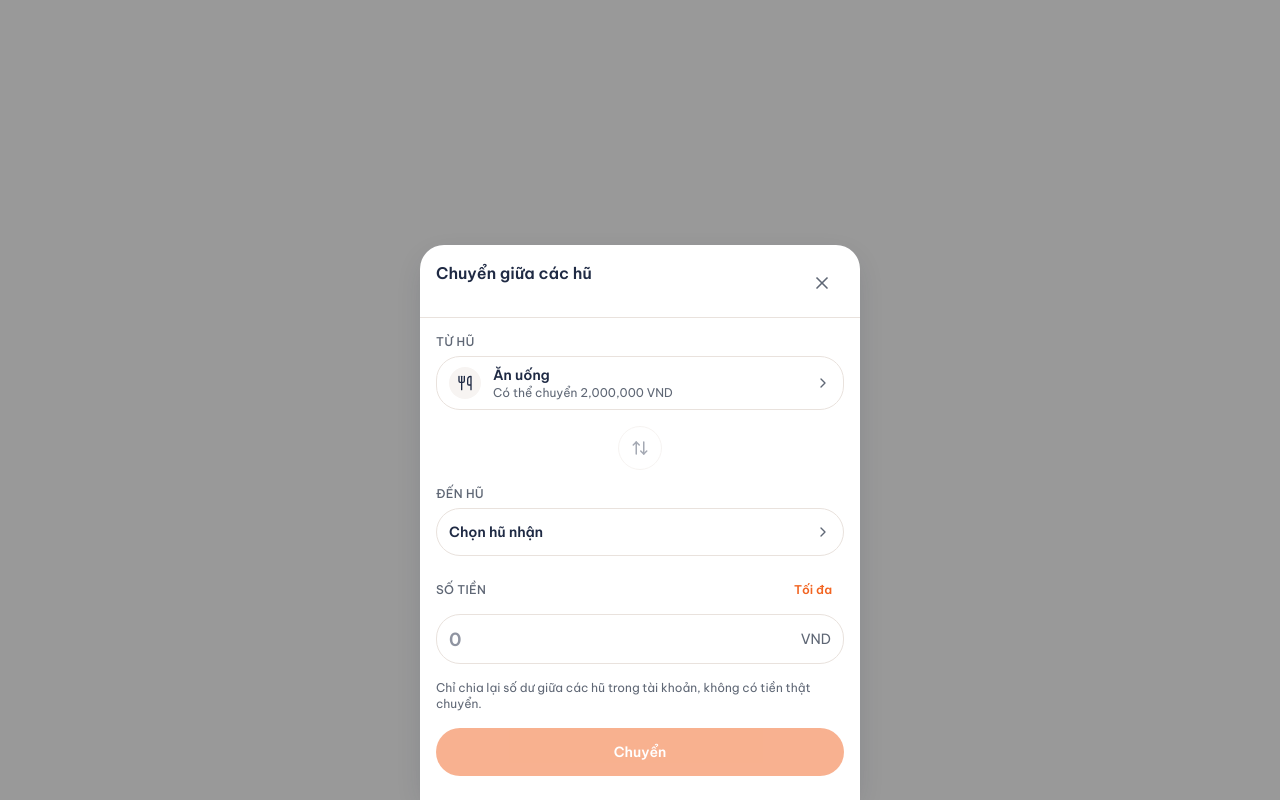
Test: JarTransferSheet — endpoint selection › an over-allocated pool cannot be picked as a source (cap 0, 'Không còn số dư để chuyển')
Click the button with aria-label "Hũ chuyển: Ăn uống — đổi" at coordinates (640, 383), box [436,356,844,410]
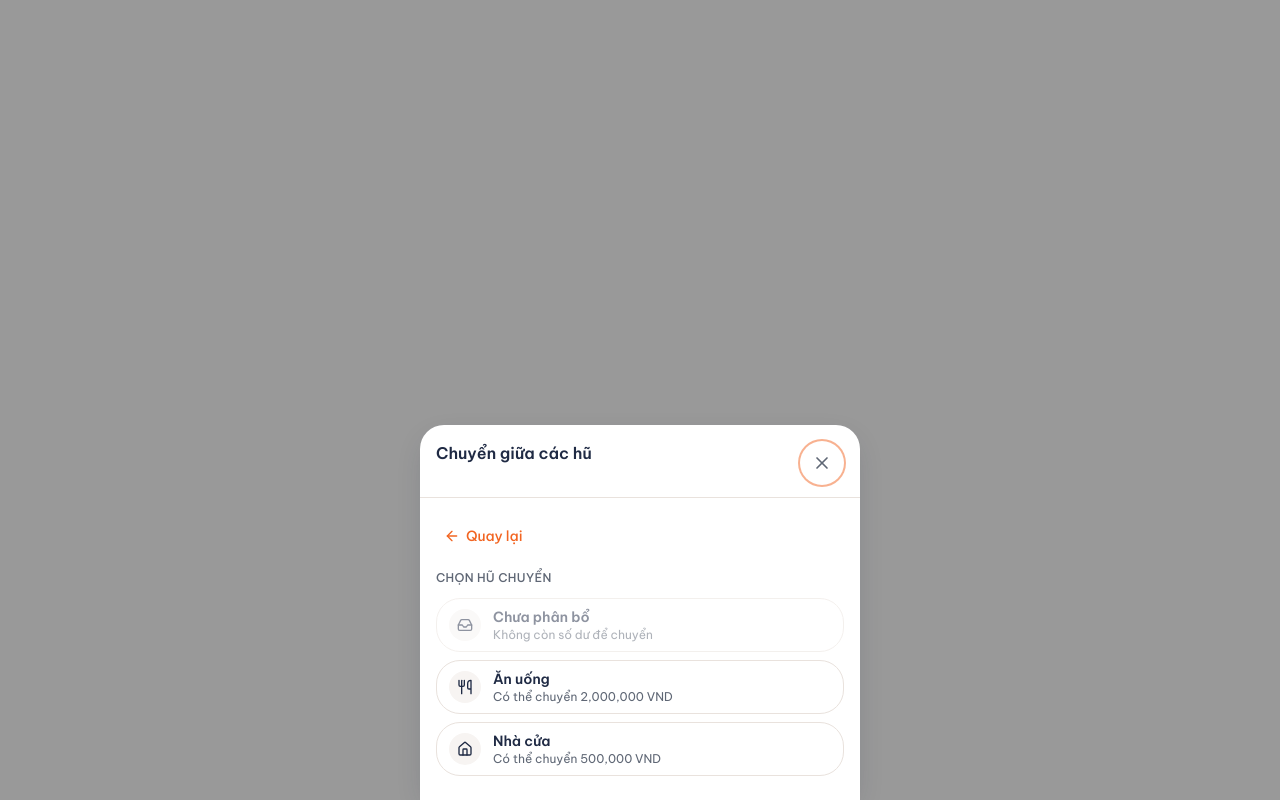
expect the button "Chưa phân bổ Không còn số dư để chuyển" is disabled: met, box [436,598,844,652]
expect the text "Không còn số dư để chuyển" is shown: met, box [493,627,653,642]
